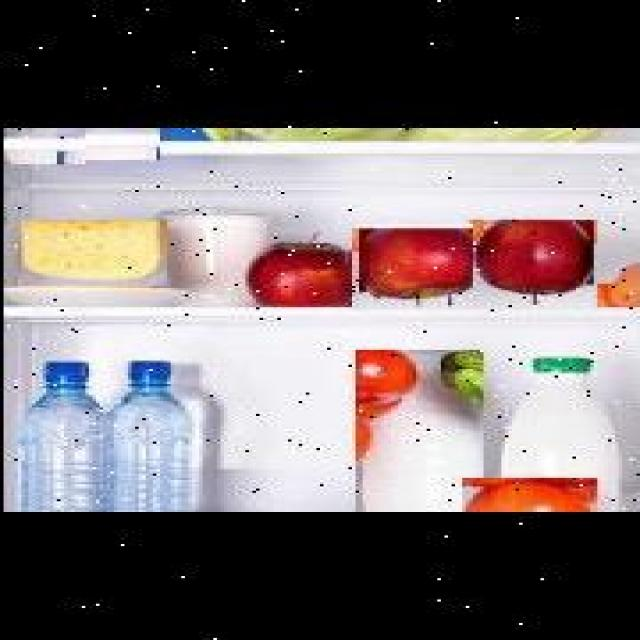apple: (466, 218, 594, 309), (347, 225, 468, 310), (244, 228, 354, 307)
cheese: (14, 220, 164, 286)
egg: (57, 128, 156, 160), (0, 128, 82, 164)
milk: (356, 350, 484, 512)
tomato: (462, 478, 598, 512)
